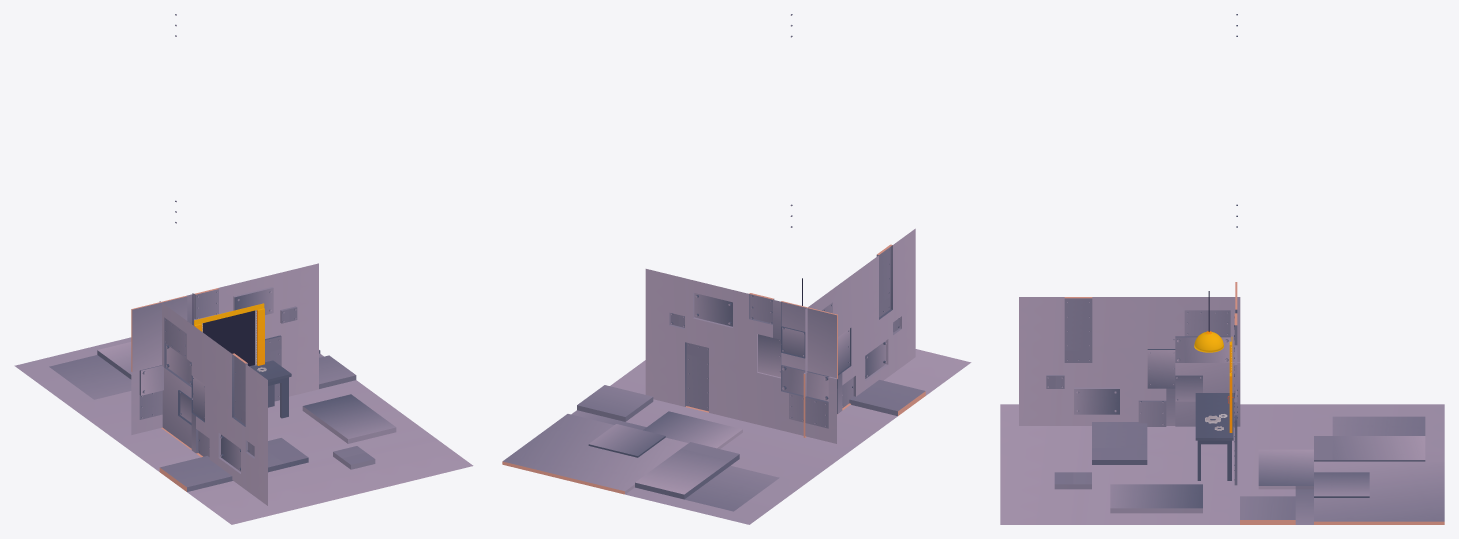
Rendered from environment.glb.
3 renders of one model, left to right at view 1: azimuth 30°, elevation 25°; view 2: azimuth 150°, elevation 25°; view 3: azimuth 270°, elevation 25°, orthographic. The views are drawn at different scales.
Parts seen in each view (by area): view 1: table; view 2: table; view 3: table.
Part boxes in pixels (x1,y1,x2,y2): table: [14, 14, 473, 524]; table: [502, 14, 971, 524]; table: [1000, 14, 1444, 524].
Size of the model in its own units: 15.06 by 24.68 by 23.44.
2 materials, 2 textured.
